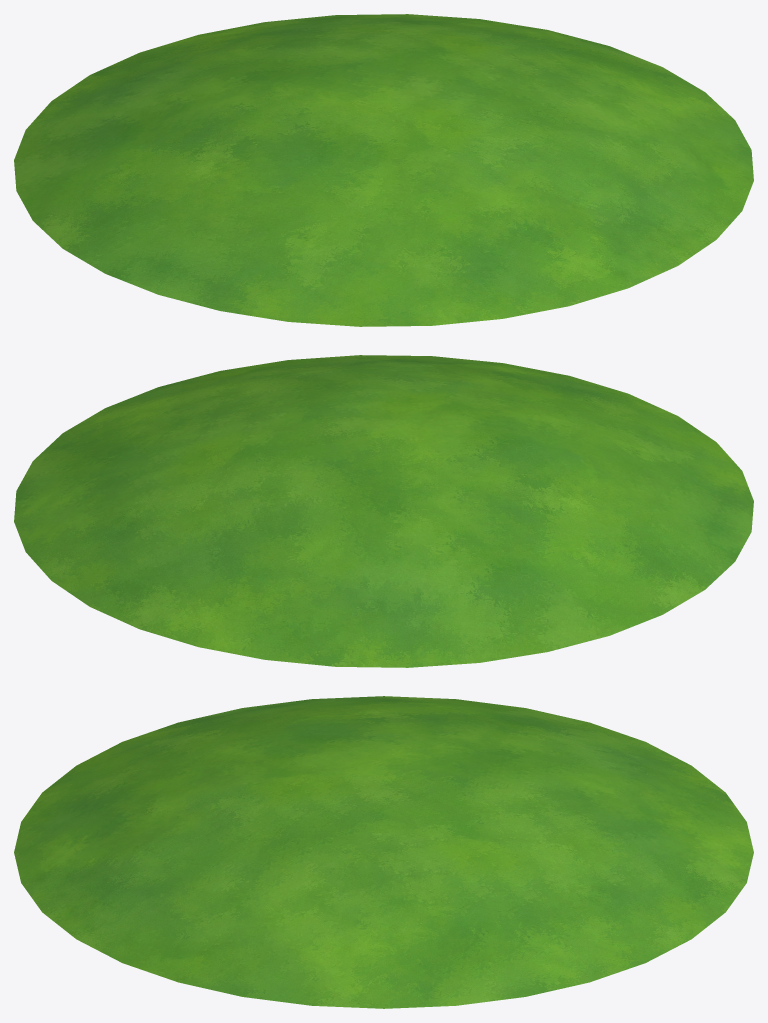
File: Forest_Ground_04.fbx
3 views of the same model, one above another, from view 1: azimuth 30°, elevation 25°; view 2: azimuth 150°, elevation 25°; view 3: azimuth 270°, elevation 25° (orthographic).
Parts seen in each view (by area): view 1: Forest_Ground_04; view 2: Forest_Ground_04; view 3: Forest_Ground_04.
Part boxes in pixels (x1=…): Forest_Ground_04: x1=14, y1=14, x2=753, y2=326; Forest_Ground_04: x1=14, y1=355, x2=753, y2=667; Forest_Ground_04: x1=14, y1=696, x2=753, y2=1008.
Bounding box in the file's own units: 1561 × 1561 × 181.
